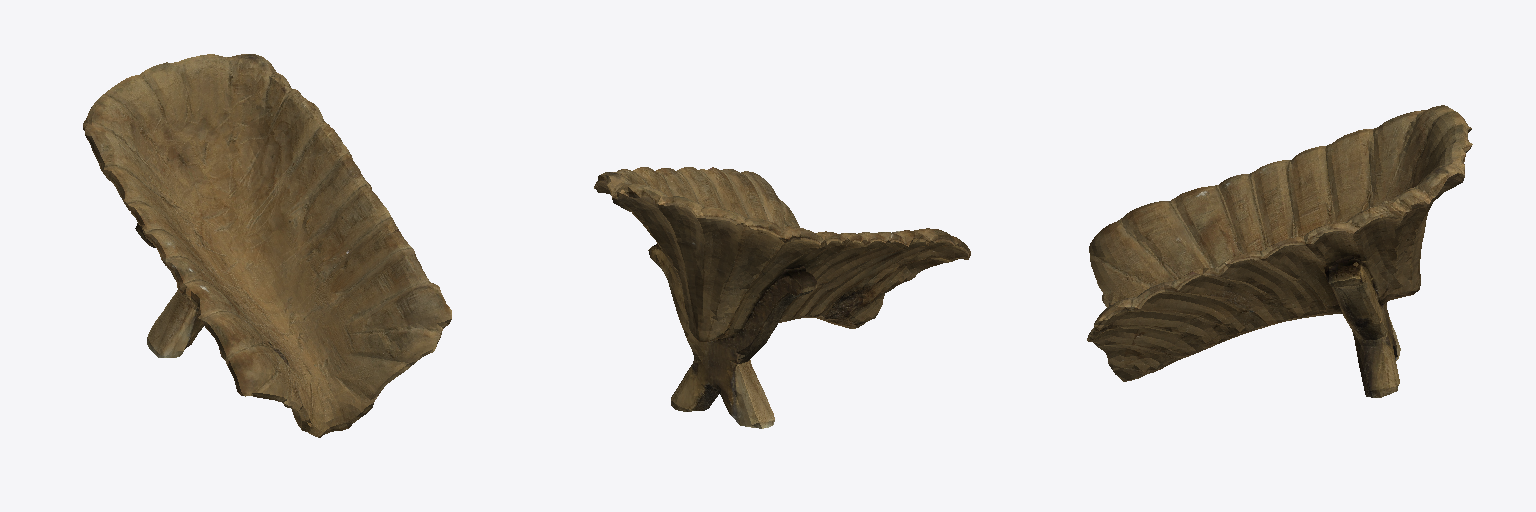
3 views of the same model, side by side, from view 1: azimuth 30°, elevation 25°; view 2: azimuth 150°, elevation 25°; view 3: azimuth 270°, elevation 25° (orthographic).
Parts seen in each view (by area): view 1: MVFC3832a_manjedoura_LP1; view 2: MVFC3832a_manjedoura_LP1; view 3: MVFC3832a_manjedoura_LP1.
Part boxes in pixels (x1,y1,x2,y2): MVFC3832a_manjedoura_LP1: (83, 54, 451, 437); MVFC3832a_manjedoura_LP1: (594, 167, 970, 428); MVFC3832a_manjedoura_LP1: (1087, 105, 1472, 397).
Size of the model in its own units: 0.0717 by 0.0781 by 0.1083.
Materials: 1 (1 with a texture image).